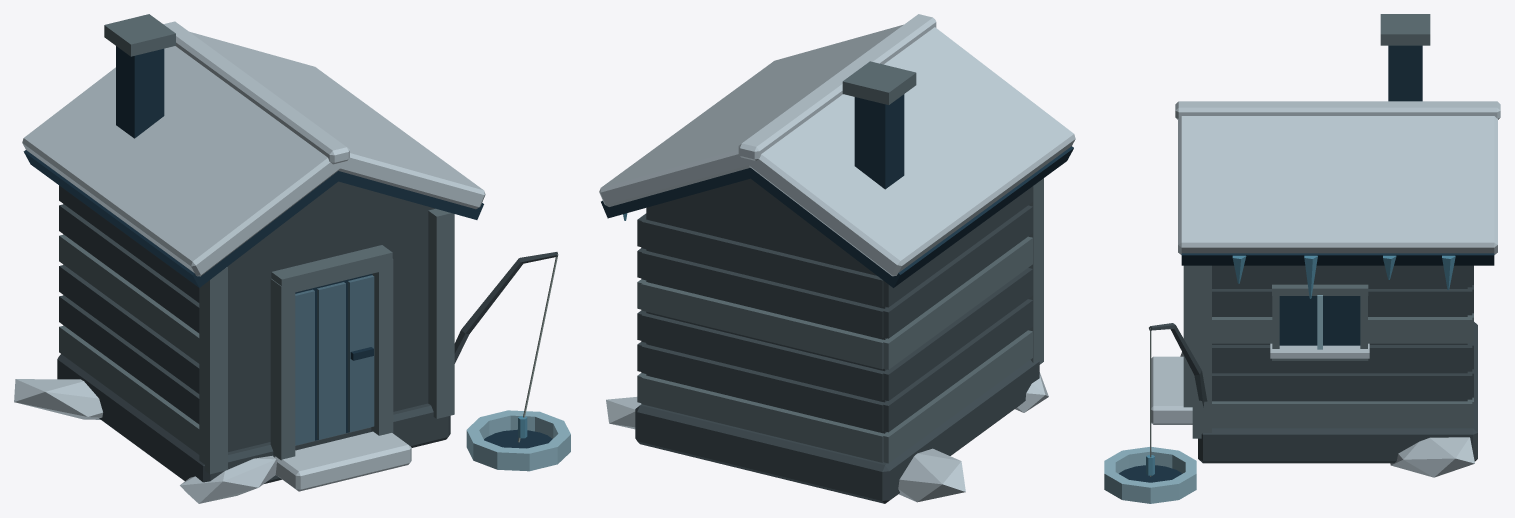
File: Ice_Fishing_Hut.glb
3 renders of one model, left to right at view 1: azimuth 30°, elevation 25°; view 2: azimuth 150°, elevation 25°; view 3: azimuth 270°, elevation 25°, orthographic. The views are drawn at different scales.
Parts seen in each view (by area): view 1: Ice_Fishing_Hut; view 2: Ice_Fishing_Hut; view 3: Ice_Fishing_Hut.
Part boxes in pixels (<box>): Ice_Fishing_Hut: <box>14,14,570,503</box>; Ice_Fishing_Hut: <box>599,14,1075,503</box>; Ice_Fishing_Hut: <box>1104,14,1500,503</box>.
Bounding box in the file's own units: 3.04 × 2.86 × 2.88.
